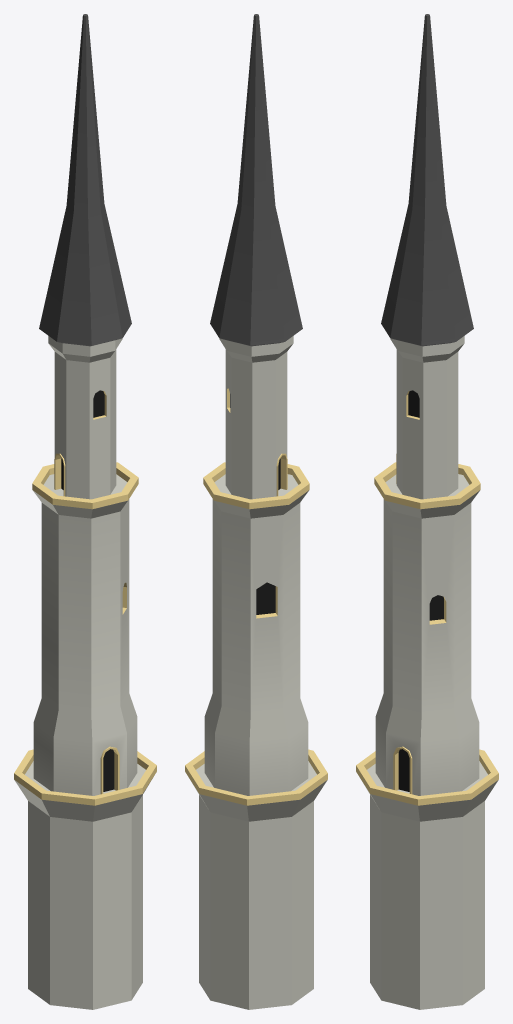
File: Castle_Spire_01.fbx
The picture shows the model from 3 angles, left to right: view 1: azimuth 30°, elevation 25°; view 2: azimuth 150°, elevation 25°; view 3: azimuth 330°, elevation 25°; orthographic projection.
Parts seen in each view (by area): view 1: Castle_Spire_01; view 2: Castle_Spire_01; view 3: Castle_Spire_01.
Boxes of the visible parts, x1=… form: Castle_Spire_01: x1=14, y1=14, x2=156, y2=1009; Castle_Spire_01: x1=185, y1=14, x2=327, y2=1009; Castle_Spire_01: x1=356, y1=14, x2=498, y2=1009.
Size of the model in its own units: 146 by 1172 by 146.
